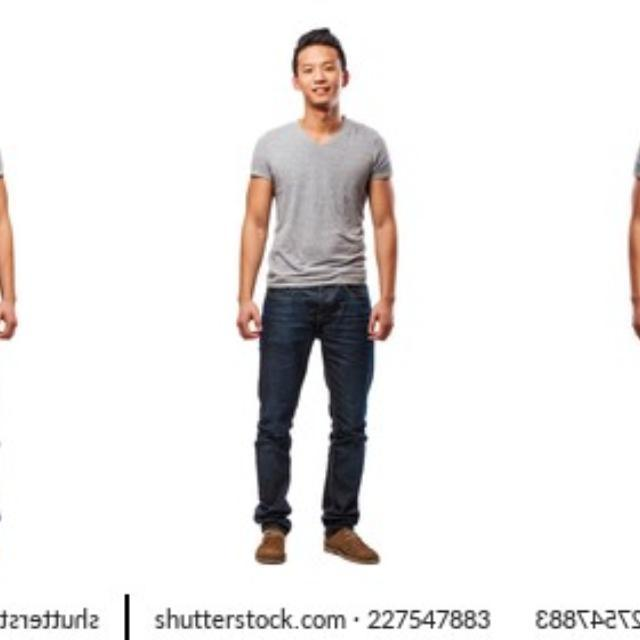person: (223, 20, 424, 446), (599, 20, 640, 446), (0, 20, 28, 446)
